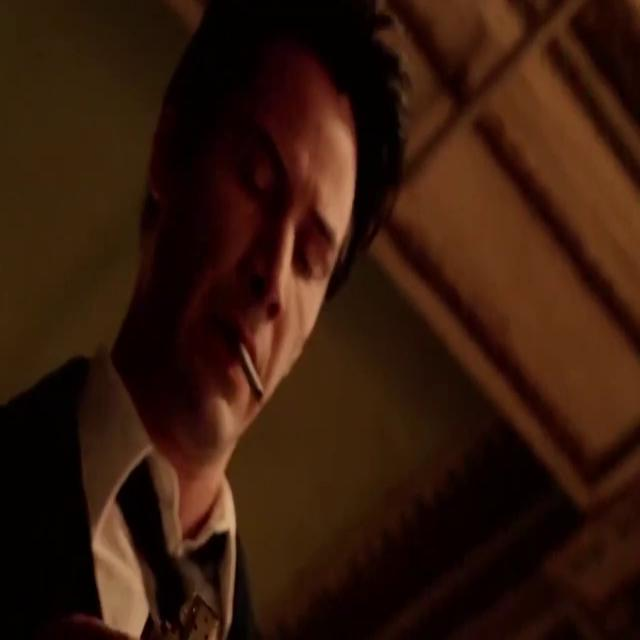Smooking: (234, 338, 271, 412)
